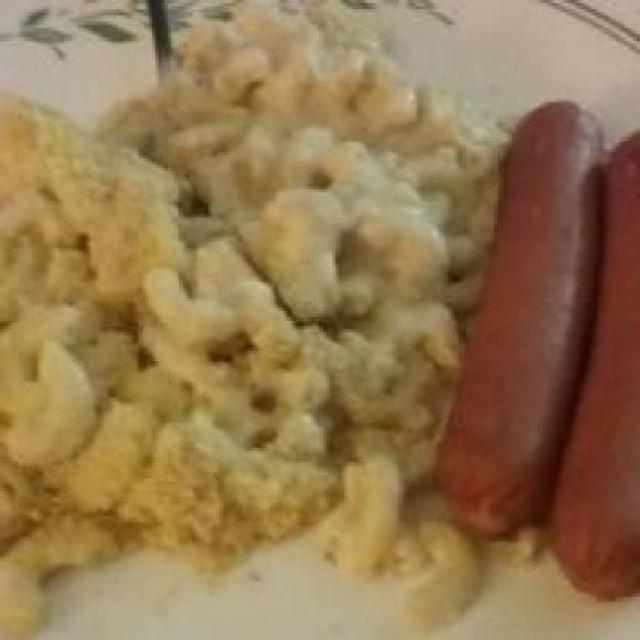macaroni and cheese: (3, 12, 479, 631)
